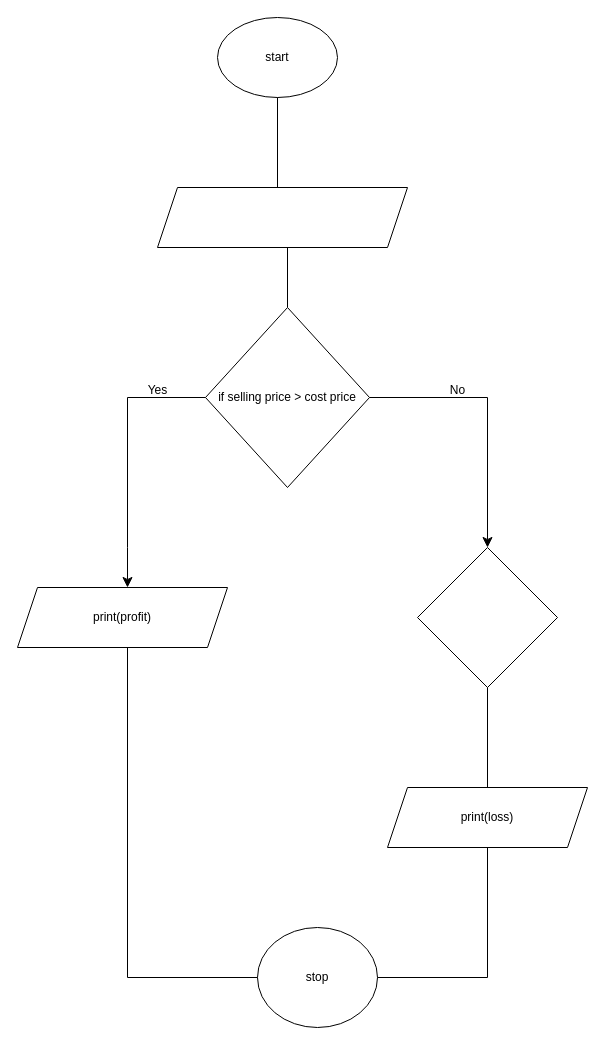
This 605x1045 diagram has some shape labels left out. Each missing label, with the centre of its shape:
"cost price > selling price" belongs at (x=487, y=617).
"input cost price input selling price" belongs at (x=282, y=217).
